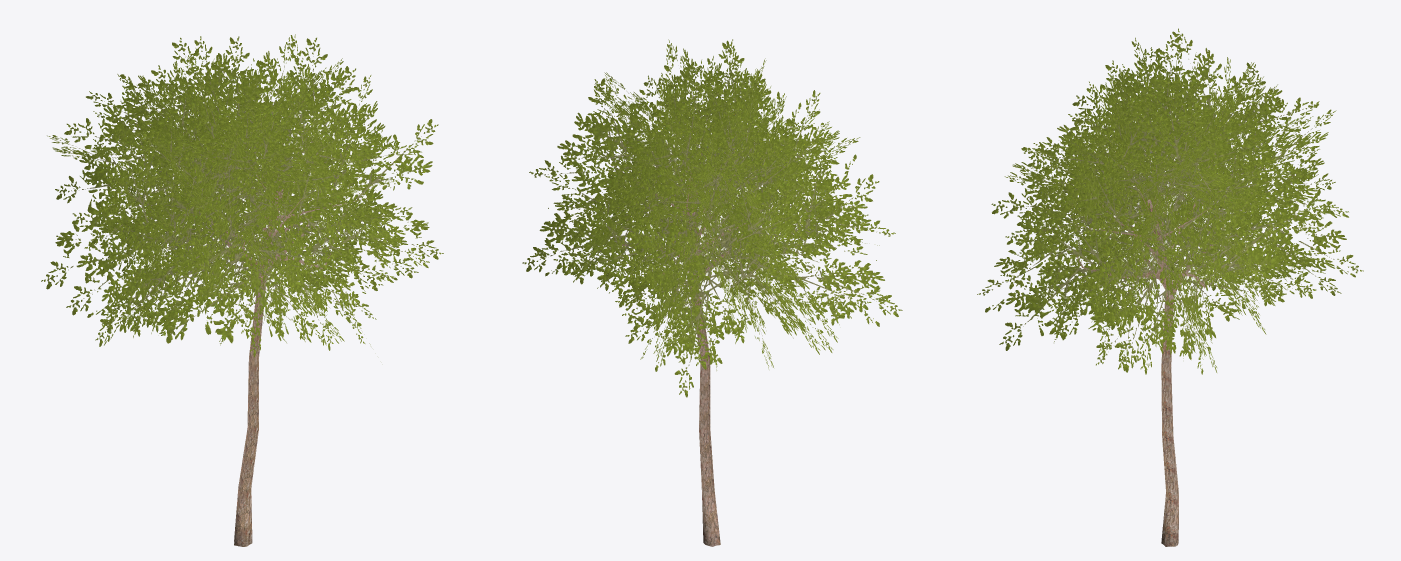
The model's file is tree8.fbx.
3 views of the same model, side by side, from view 1: azimuth 30°, elevation 25°; view 2: azimuth 150°, elevation 25°; view 3: azimuth 270°, elevation 25° (orthographic). The views are drawn at different scales.
Parts seen in each view (by area): view 1: Tree_LOD0; view 2: Tree_LOD0; view 3: Tree_LOD0.
Boxes of the visible parts, box(x1,y1,x2,y2) form: Tree_LOD0: box(41, 34, 443, 546); Tree_LOD0: box(522, 39, 902, 546); Tree_LOD0: box(977, 28, 1363, 546).
Size of what is drawn, in the model's own units: 621 by 779 by 606.
